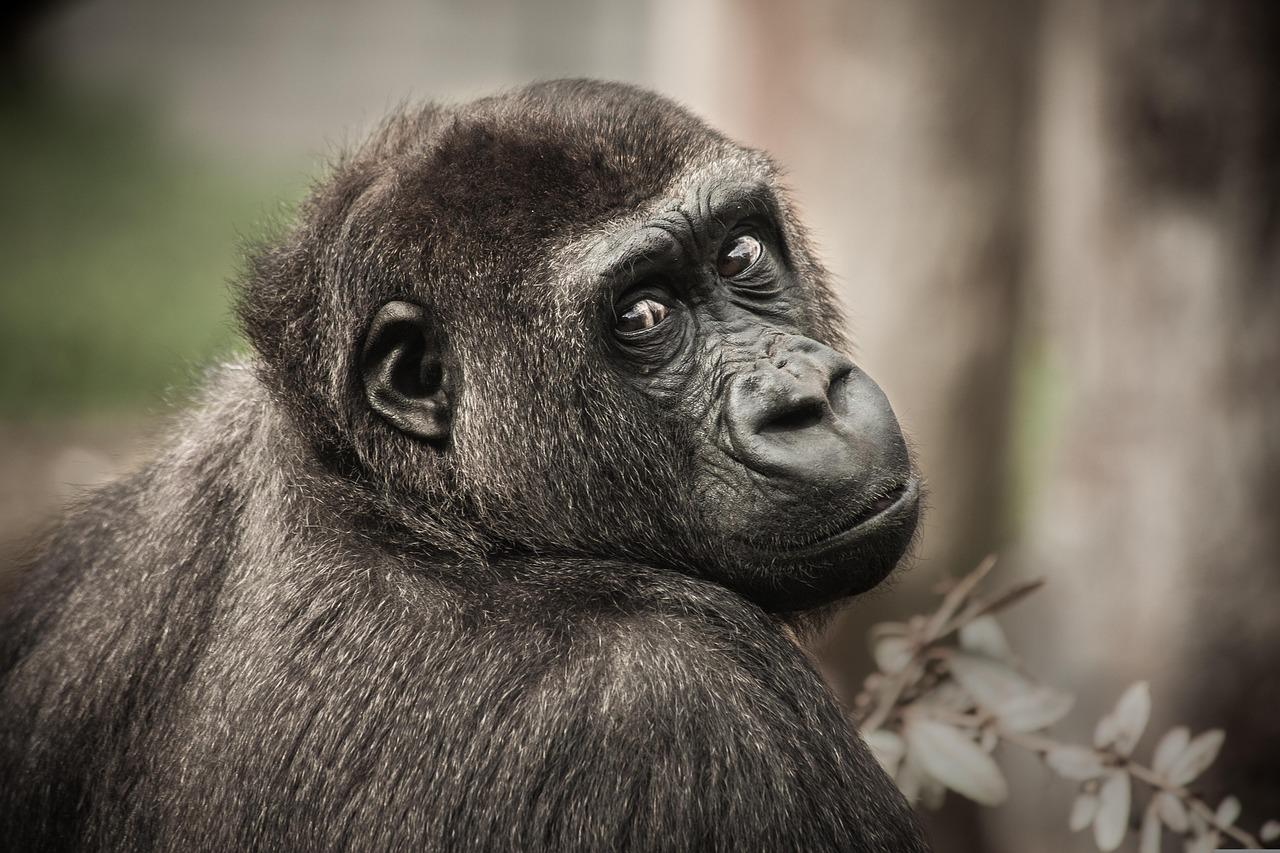gorille_Autres: (4, 58, 1068, 853)
